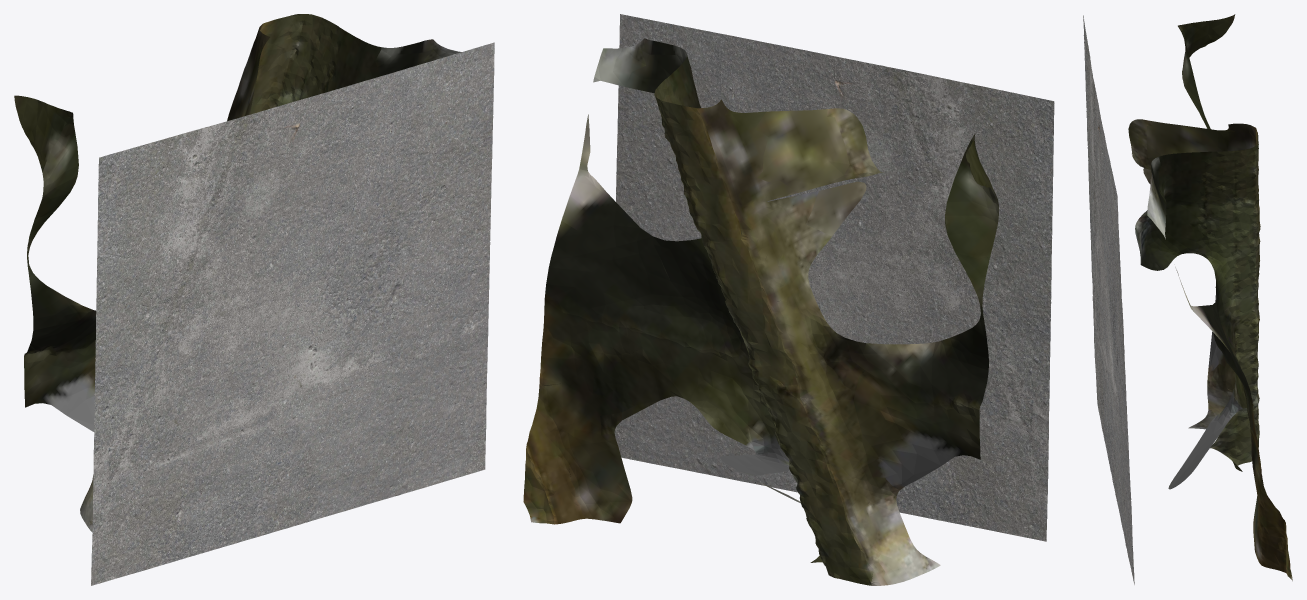
Rendered from Tile_+005_+005.obj.
The picture shows the model from 3 angles, left to right: view 1: azimuth 30°, elevation 25°; view 2: azimuth 150°, elevation 25°; view 3: azimuth 270°, elevation 25°; orthographic projection. The views are drawn at different scales.
Size of the model in its own units: 3.03 by 3.03 by 1.48.
Materials: 1 (1 with a texture image).
